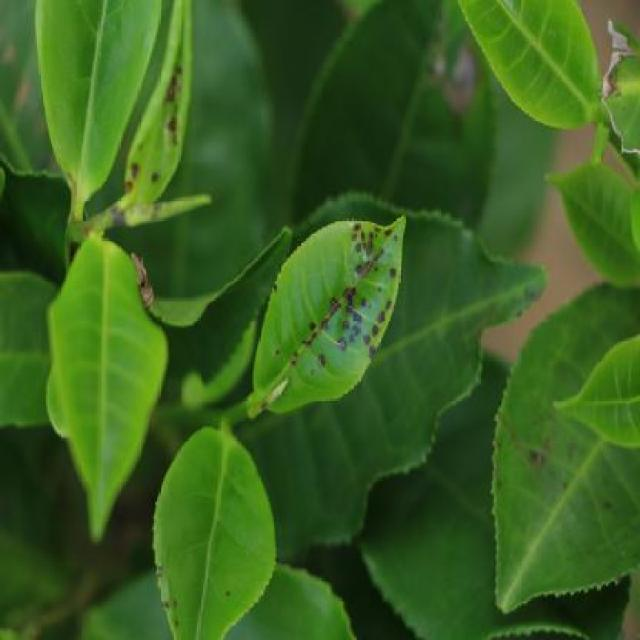Tea Mosquito bug infested leaf: (255, 212, 417, 423), (128, 20, 195, 222)
